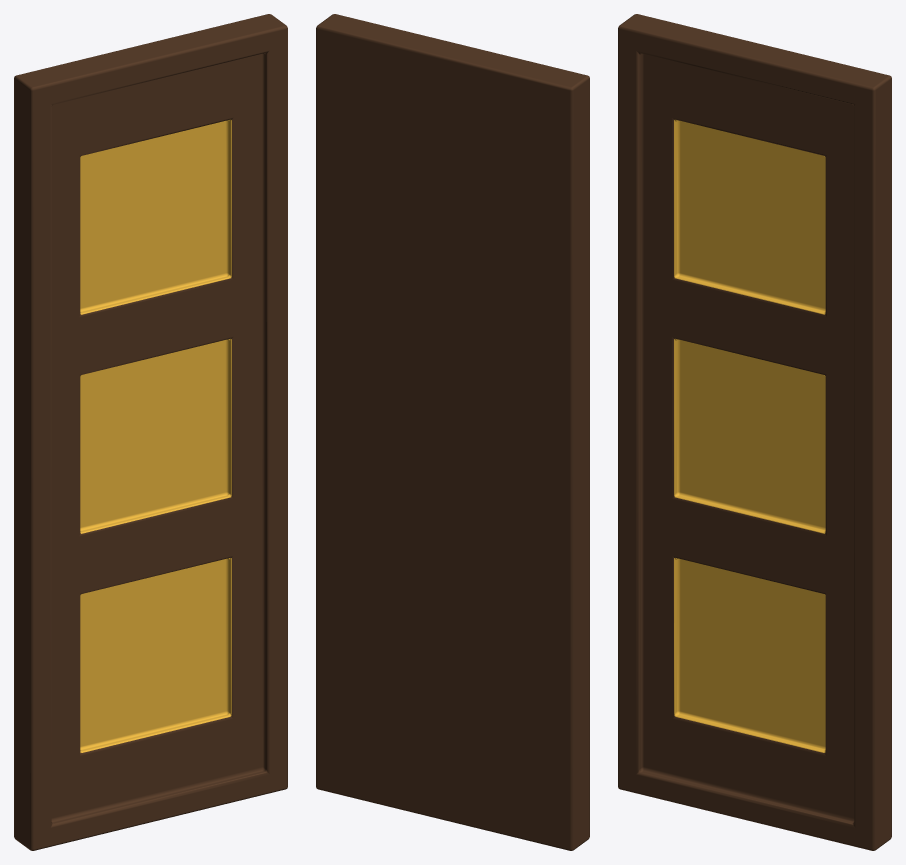
File: K_GateLeaf.fbx
3 renders of one model, left to right at view 1: azimuth 30°, elevation 25°; view 2: azimuth 150°, elevation 25°; view 3: azimuth 330°, elevation 25°, orthographic.
Visible parts, largest first — view 1: K_GateLeaf; view 2: K_GateLeaf; view 3: K_GateLeaf.
Part boxes in pixels (left/top/right/bottom): K_GateLeaf: left=14, top=14, right=287, bottom=850; K_GateLeaf: left=316, top=14, right=589, bottom=850; K_GateLeaf: left=618, top=14, right=891, bottom=850.
Bounding box in the file's own units: 1.2 × 3.4 × 0.15.
